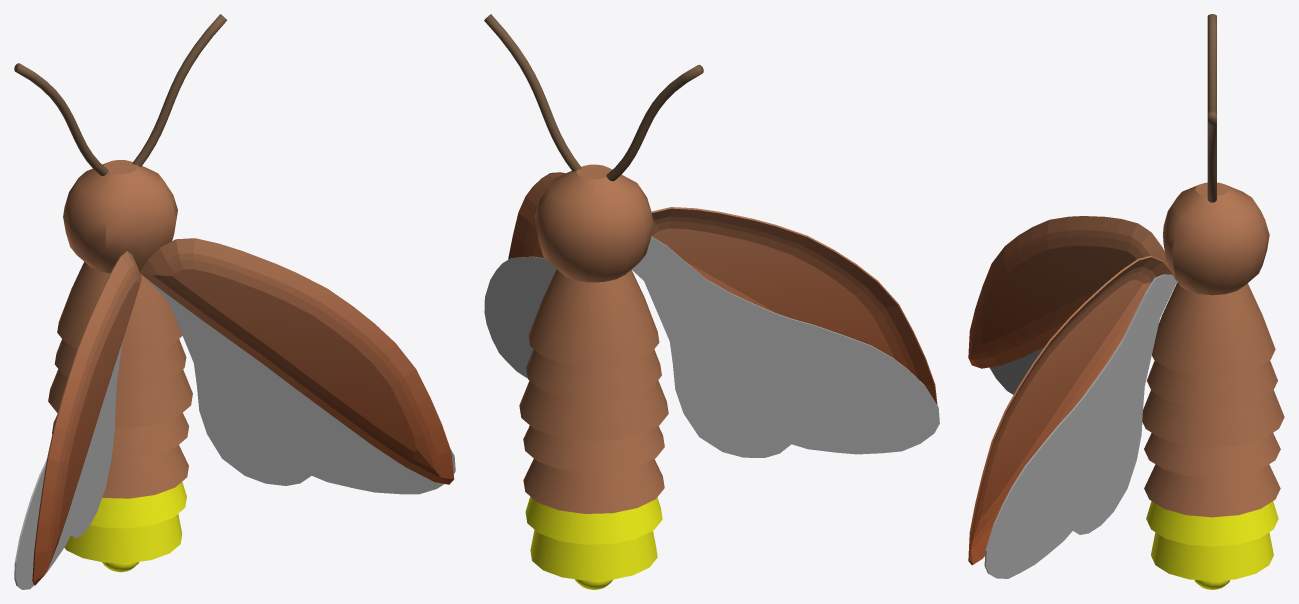
Rendered from Glowworm.fbx.
The picture shows the model from 3 angles, left to right: view 1: azimuth 30°, elevation 25°; view 2: azimuth 150°, elevation 25°; view 3: azimuth 270°, elevation 25°; orthographic projection. The views are drawn at different scales.
Visible parts, largest first — view 1: Плоскость, Цилиндр, Плоскость.001, Плоскость.002, Цилиндр.001, Плоскость.003, BézierCurve.002, BézierCurve.001; view 2: Цилиндр, Плоскость.003, Плоскость.002, Цилиндр.001, Плоскость.001, BézierCurve.002, Плоскость, BézierCurve.001; view 3: Цилиндр, Плоскость.001, Плоскость.002, Плоскость, Цилиндр.001, BézierCurve.001, Плоскость.003, BézierCurve.002.
Boxes of the visible parts, left/top/right/bottom form: Плоскость: left=140, top=238, right=454, bottom=484; Цилиндр: left=48, top=160, right=192, bottom=498; Плоскость.001: left=145, top=277, right=455, bottom=494; Плоскость.002: left=32, top=251, right=141, bottom=585; Цилиндр.001: left=64, top=482, right=186, bottom=563; Плоскость.003: left=14, top=341, right=122, bottom=589; BézierCurve.002: left=132, top=14, right=226, bottom=166; BézierCurve.001: left=14, top=63, right=108, bottom=175; Цилиндр: left=519, top=164, right=668, bottom=513; Плоскость.003: left=631, top=236, right=939, bottom=457; Плоскость.002: left=651, top=207, right=937, bottom=404; Цилиндр.001: left=525, top=496, right=662, bottom=580; Плоскость.001: left=484, top=256, right=556, bottom=377; BézierCurve.002: left=484, top=14, right=581, bottom=171; Плоскость: left=508, top=172, right=565, bottom=259; BézierCurve.001: left=606, top=64, right=703, bottom=181; Цилиндр: left=1142, top=182, right=1284, bottom=517; Плоскость.001: left=984, top=274, right=1176, bottom=578; Плоскость.002: left=968, top=216, right=1169, bottom=368; Плоскость: left=968, top=255, right=1176, bottom=564; Цилиндр.001: left=1146, top=501, right=1278, bottom=581; BézierCurve.001: left=1207, top=14, right=1216, bottom=114; Плоскость.003: left=989, top=347, right=1044, bottom=394; BézierCurve.002: left=1207, top=111, right=1216, bottom=202.
Size of the model in its own units: 229 by 264 by 144.
